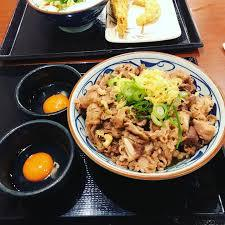niku: (65, 48, 225, 194)
